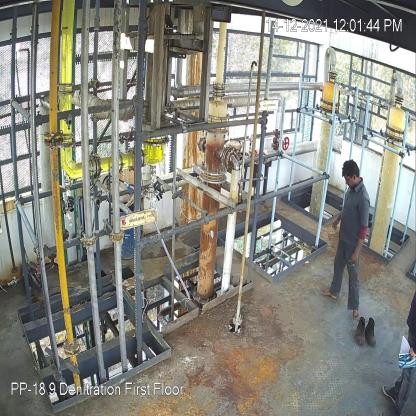no_shoes: (320, 284, 340, 302), (352, 306, 360, 321)
shoes: (366, 318, 378, 346), (355, 317, 365, 344)
